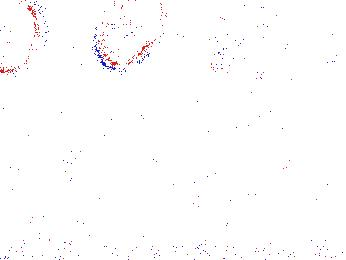moon jellyfish: (251, 23, 343, 85), (15, 1, 92, 70), (95, 1, 169, 71), (1, 1, 46, 79), (210, 38, 274, 86)
